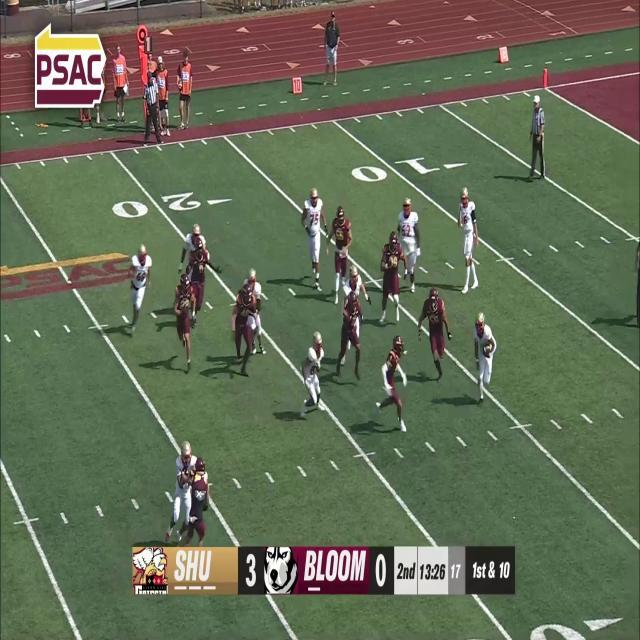football: (483, 342, 493, 358)
